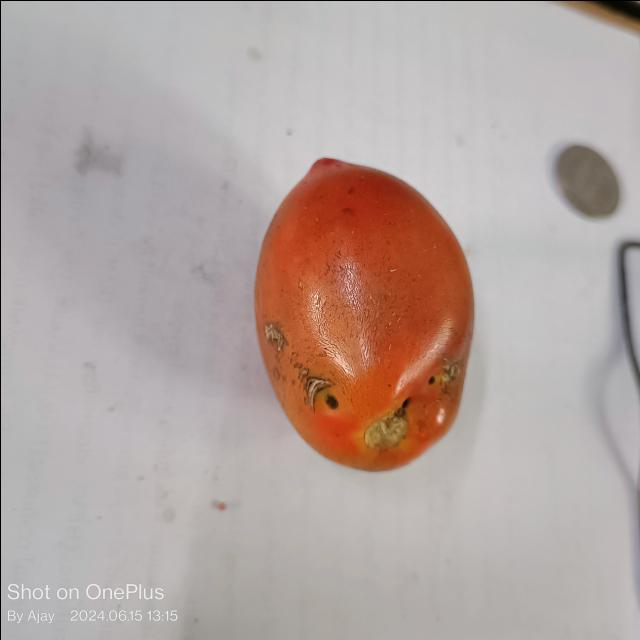Bacterial_Spot: (292, 360, 338, 410), (264, 322, 286, 350), (395, 395, 414, 415), (427, 374, 435, 384)
